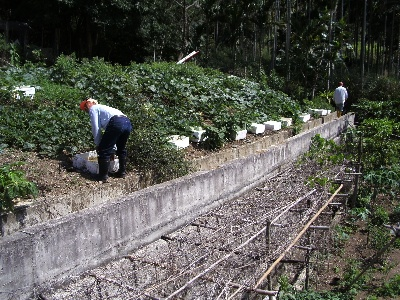styrofoam: (170, 134, 189, 150), (248, 123, 266, 135), (264, 120, 282, 131), (232, 129, 246, 140), (314, 108, 331, 116), (298, 113, 311, 123)
